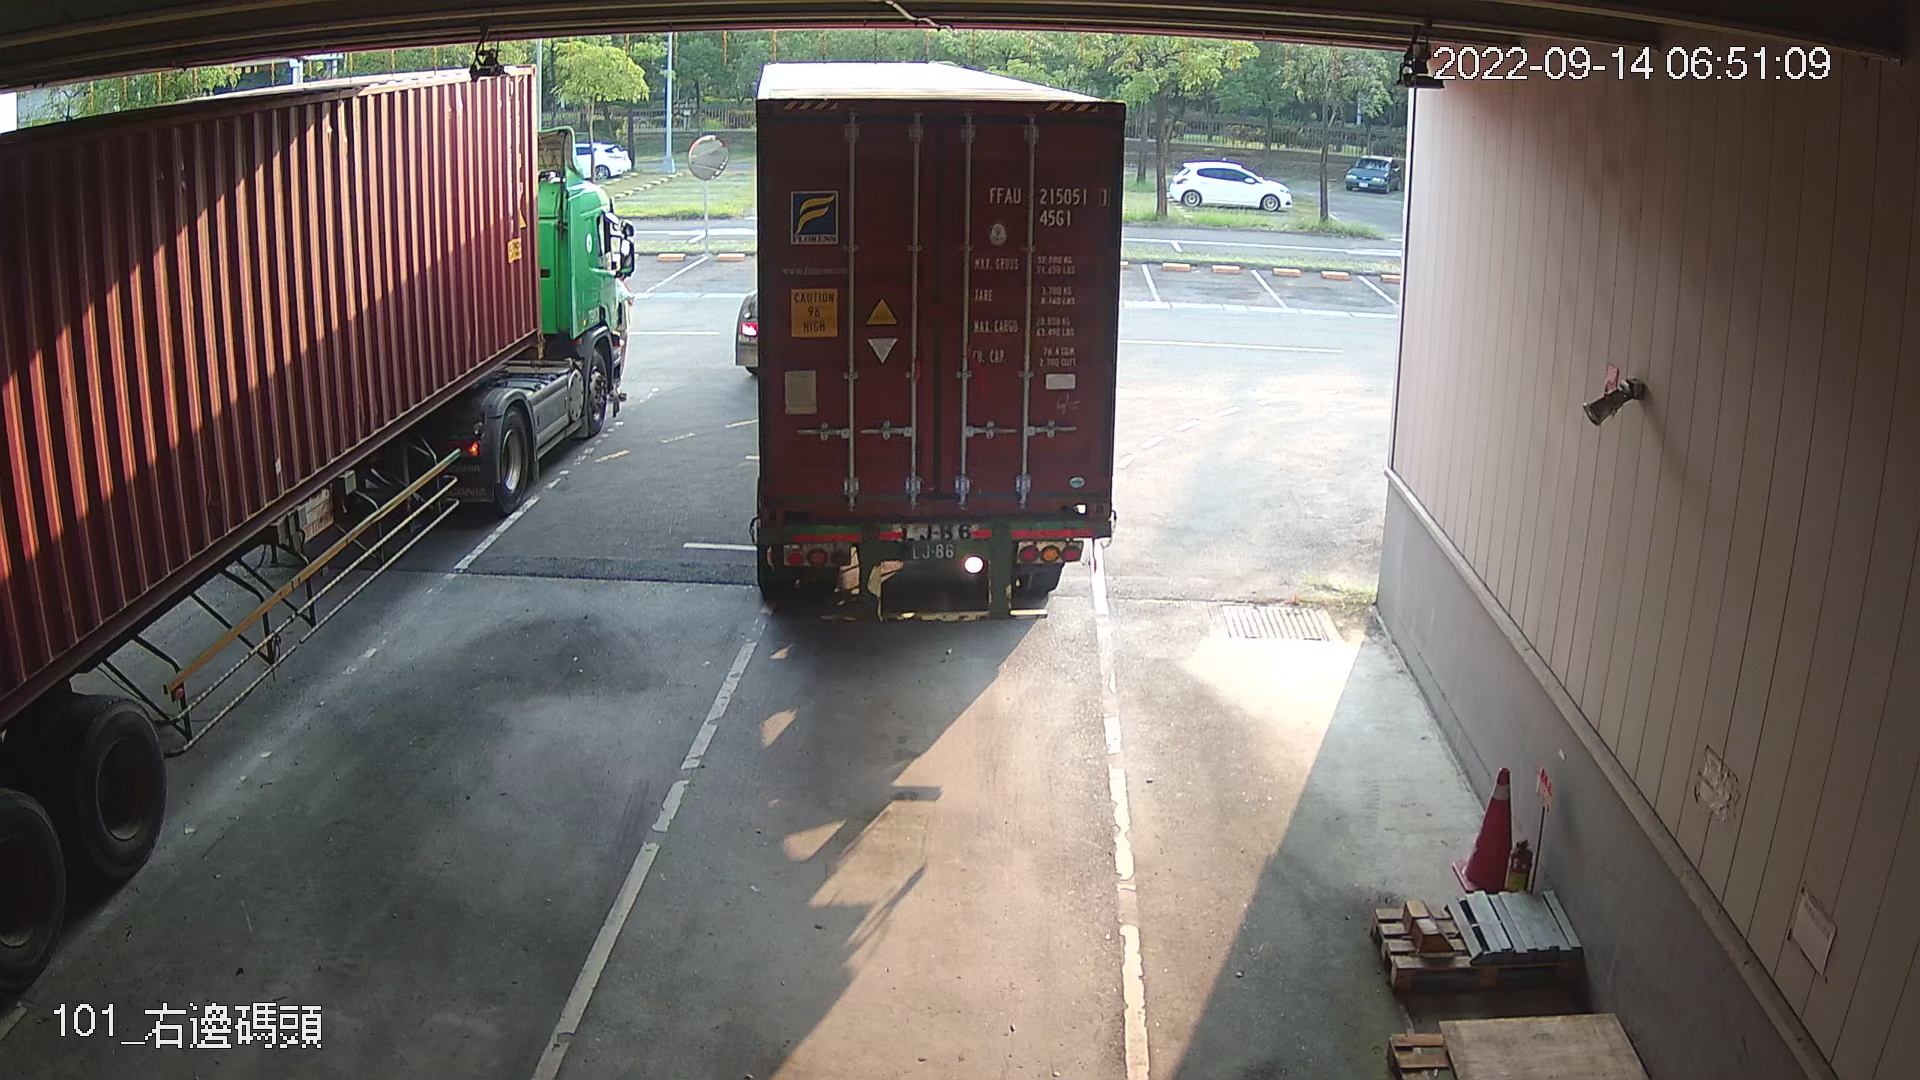container: (982, 179, 1113, 233)
